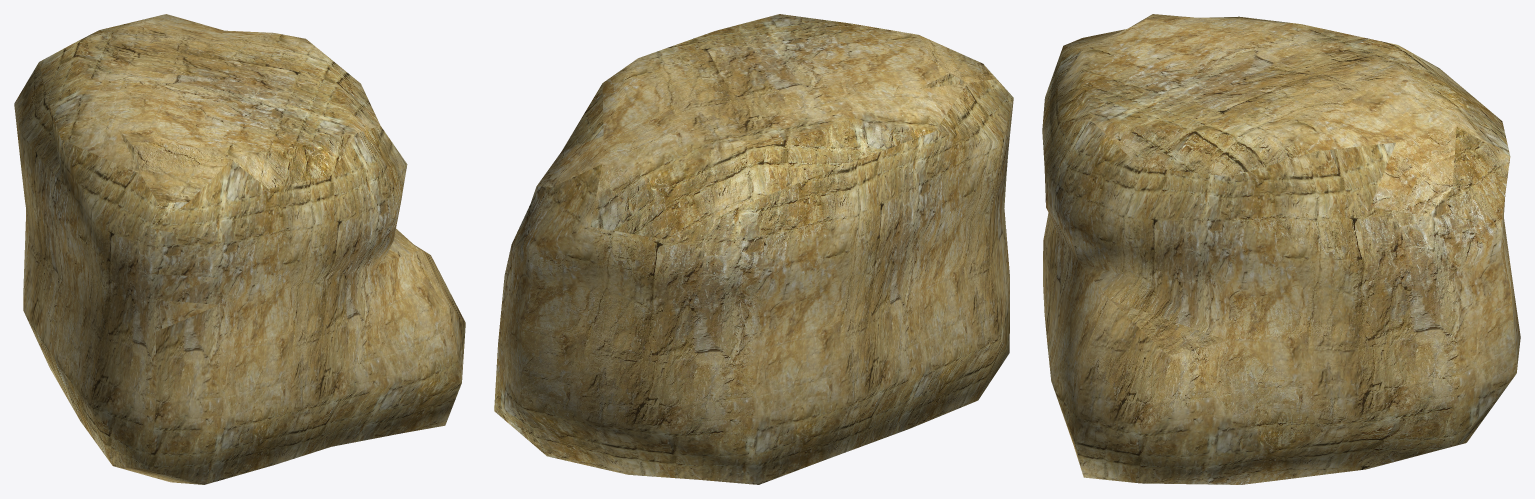
File: Boulder18.dae
3 views of the same model, side by side, from view 1: azimuth 30°, elevation 25°; view 2: azimuth 150°, elevation 25°; view 3: azimuth 270°, elevation 25° (orthographic). The views are drawn at different scales.
Parts seen in each view (by area): view 1: rock0; view 2: rock0; view 3: rock0.
Boxes of the visible parts, x1=… form: rock0: x1=14, y1=14, x2=465, y2=484; rock0: x1=494, y1=14, x2=1013, y2=484; rock0: x1=1042, y1=14, x2=1520, y2=484.
Bounding box in the file's own units: 1.6 × 1.76 × 1.45.
